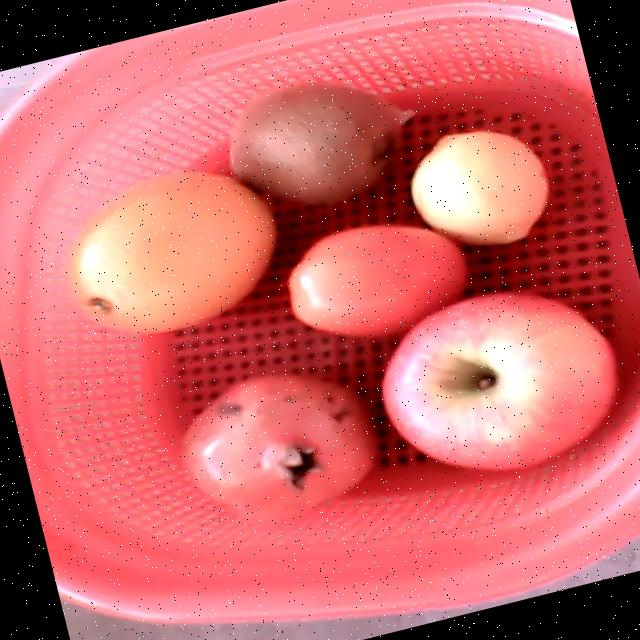apple: (381, 292, 619, 470)
kiwi: (229, 82, 401, 201)
lemon: (410, 128, 549, 244)
orange: (64, 171, 277, 333)
pomegranate: (178, 372, 378, 526)
tomato: (286, 224, 466, 336)
